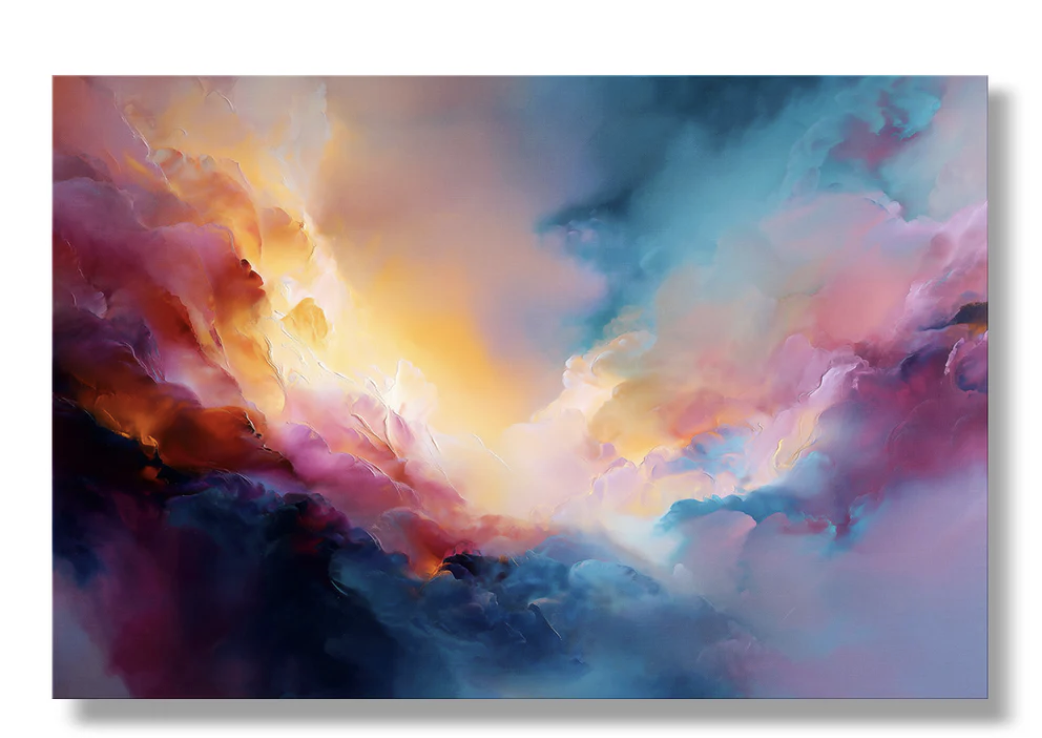painting: (52, 75, 990, 699)
